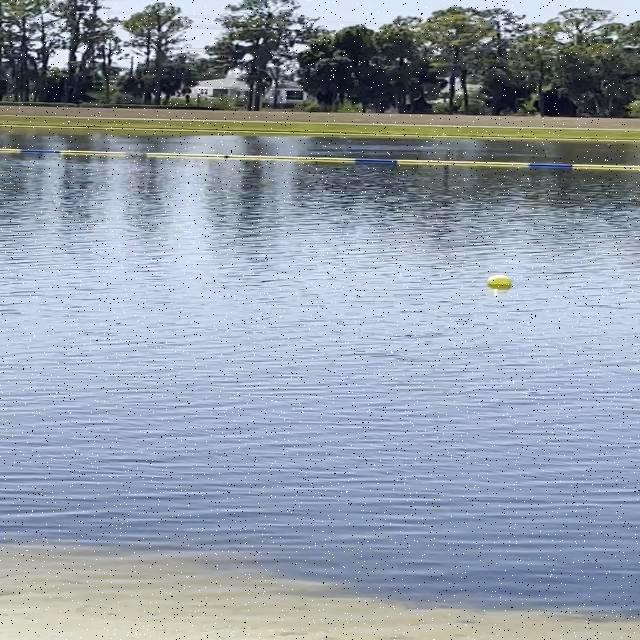buoy: (486, 272, 517, 294)
